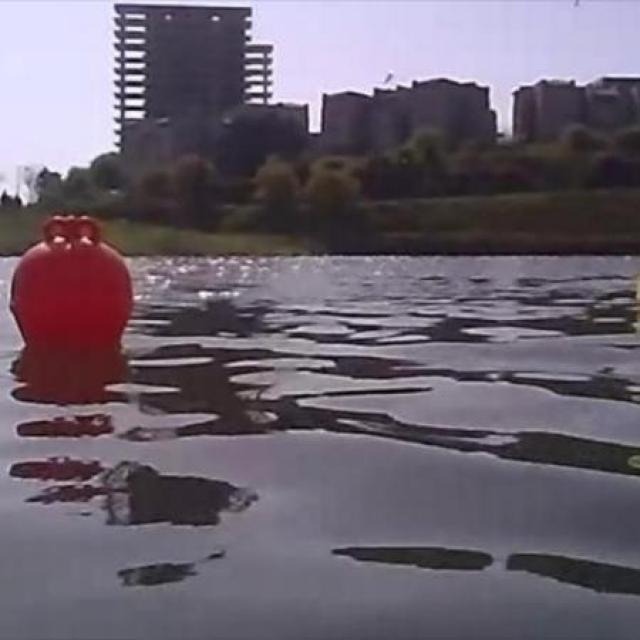buoy: (11, 216, 133, 346)
